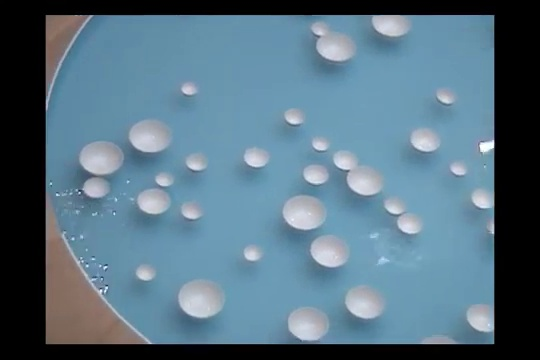bowl: (176, 277, 228, 318), (279, 192, 328, 231), (126, 117, 175, 154), (284, 306, 331, 343), (78, 139, 125, 176), (343, 282, 387, 320), (308, 233, 352, 270), (314, 30, 356, 66), (346, 164, 384, 196), (370, 13, 412, 40), (409, 125, 443, 154), (136, 187, 171, 215), (466, 301, 493, 334), (81, 174, 113, 199), (242, 146, 271, 170), (301, 162, 330, 186), (397, 209, 422, 235), (332, 150, 362, 171), (179, 199, 206, 221), (383, 193, 407, 215), (471, 186, 493, 209), (185, 152, 209, 173), (135, 261, 159, 282), (282, 107, 307, 127), (433, 85, 455, 106), (178, 79, 201, 99), (419, 333, 457, 345), (242, 242, 264, 262), (309, 19, 331, 38), (449, 158, 470, 177), (154, 170, 177, 187), (311, 134, 330, 152), (488, 219, 495, 234)
